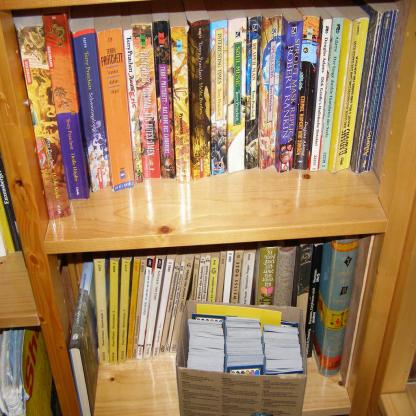book: (19, 10, 416, 398)
